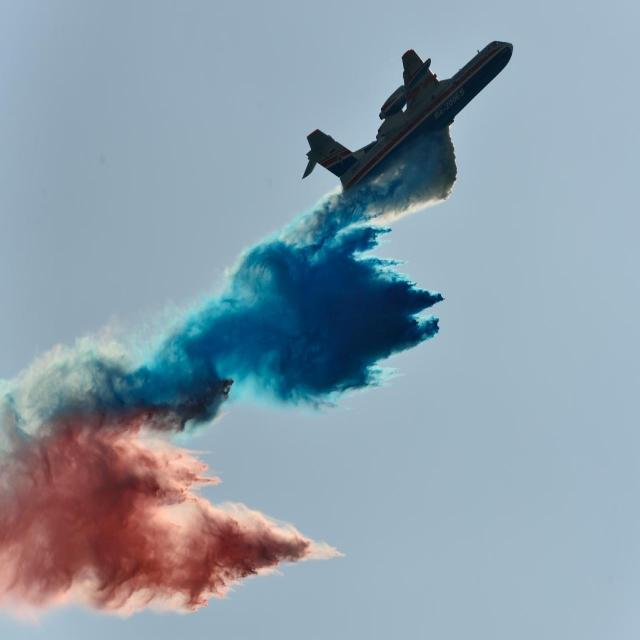MIL_Plane: (298, 39, 510, 195)
